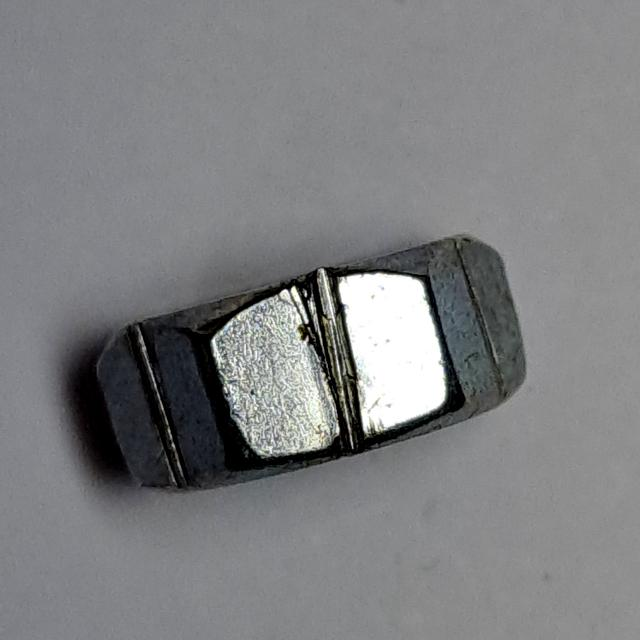Side_Scratches: (89, 226, 538, 517)
